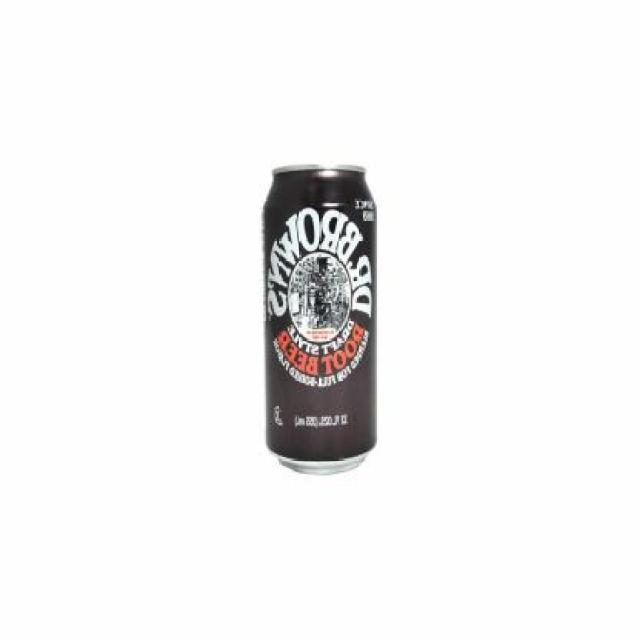can: (256, 143, 386, 491)
